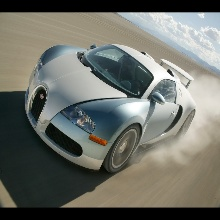no damage: (23, 42, 196, 175)
